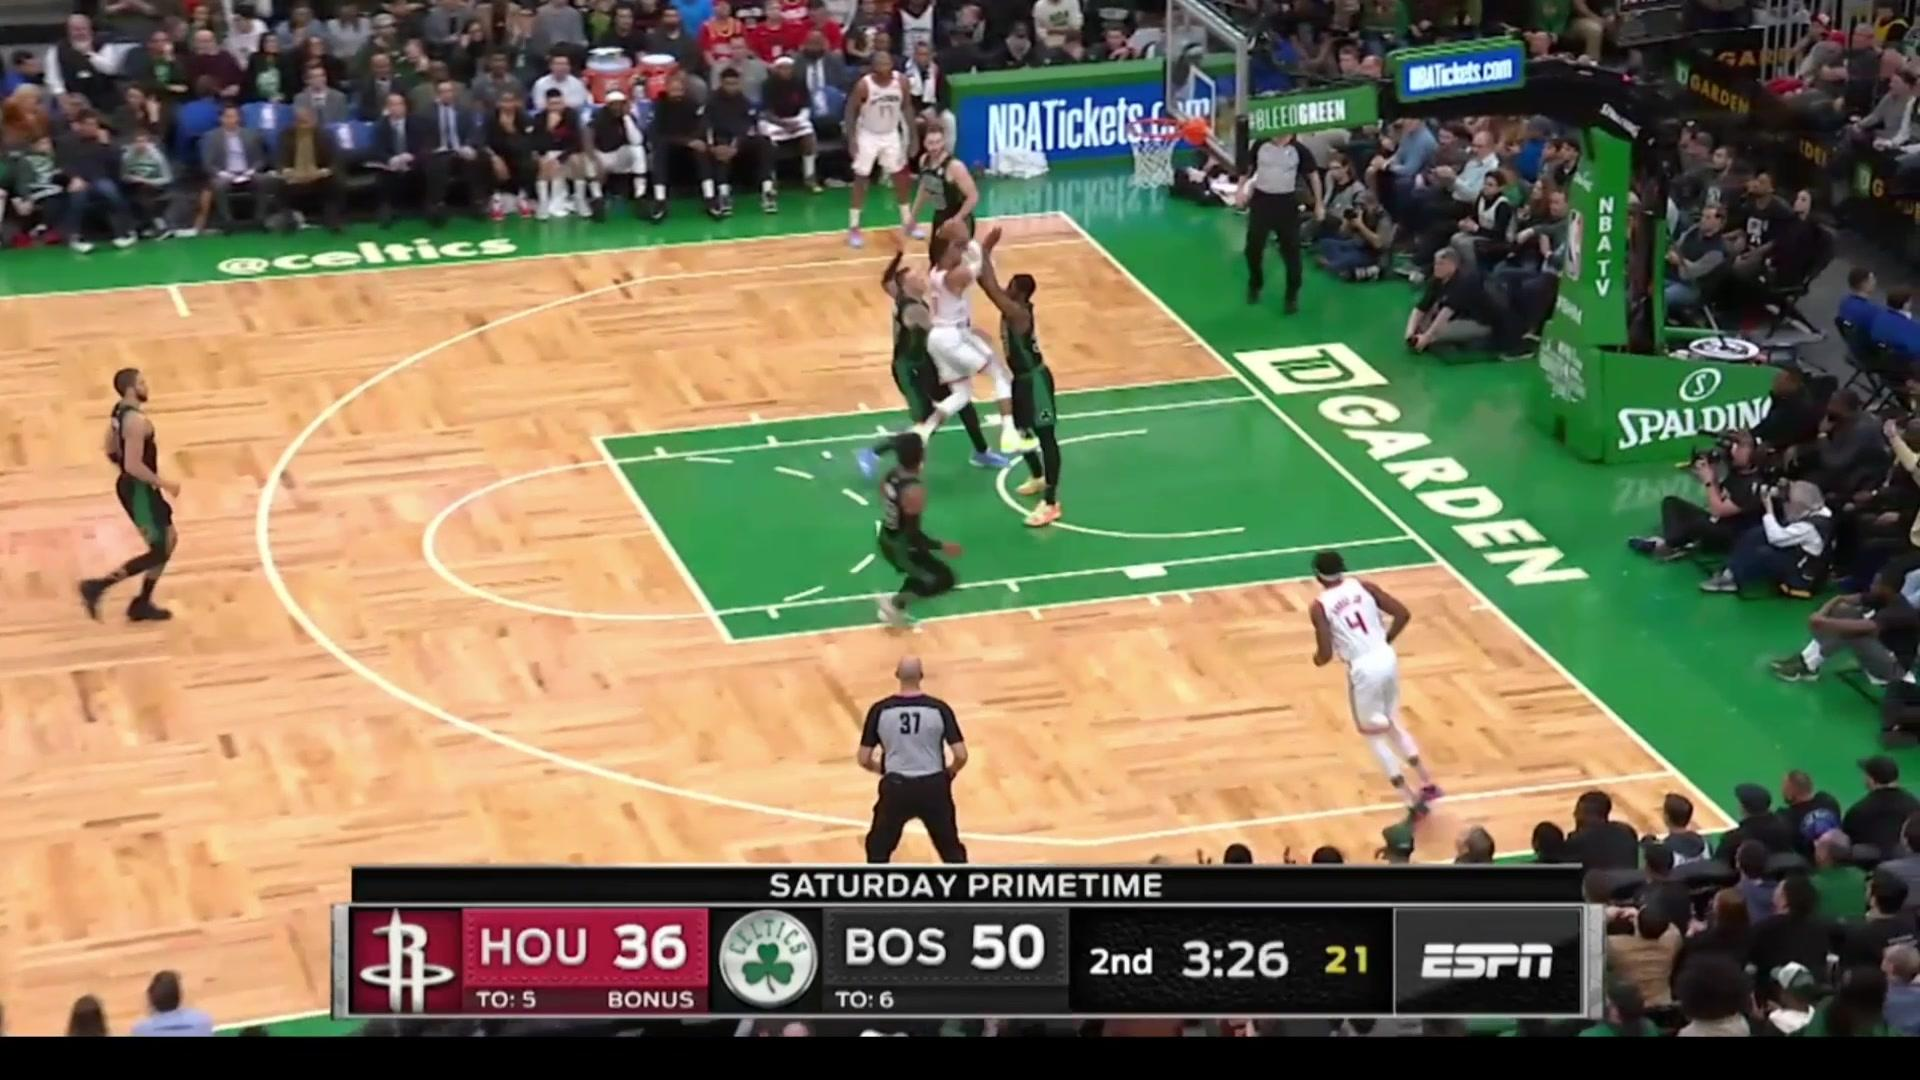no_foul: (938, 225, 1056, 472)
